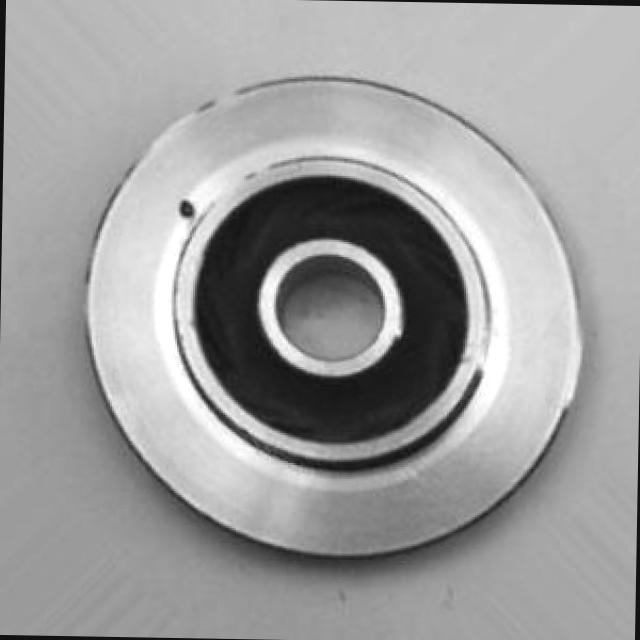Defect: (175, 193, 198, 227)
